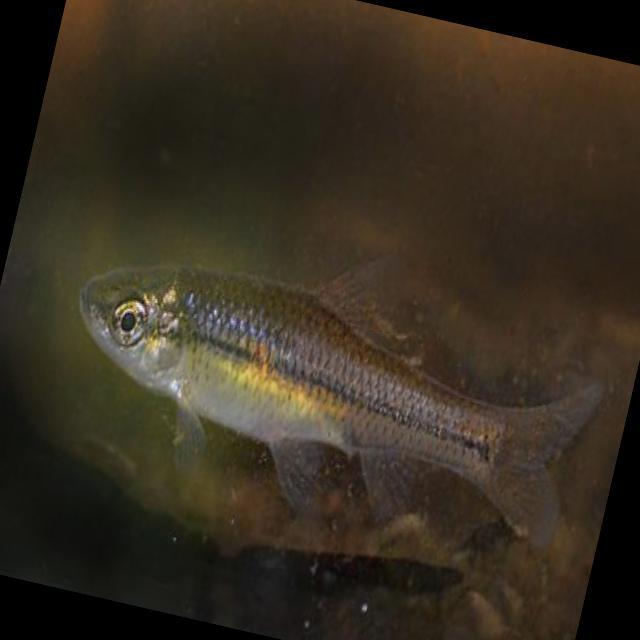Cakil Baligi: (38, 186, 625, 578)
